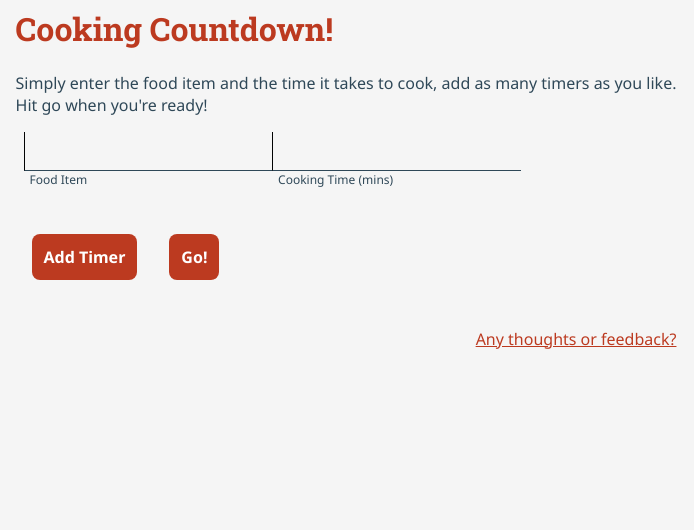
Test: <App /> › renders single instruction when only one set is populated
Type "Food A" into the field at [148, 151], box [24, 132, 272, 171]
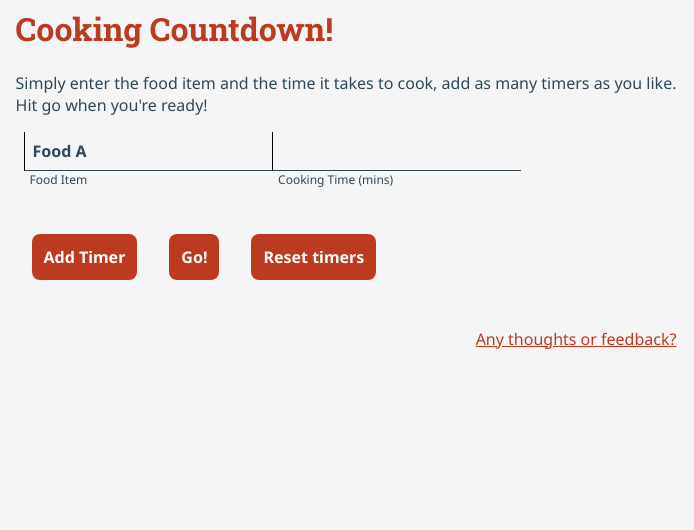
Type "10" into the number field at [396, 151], box [272, 132, 521, 171]
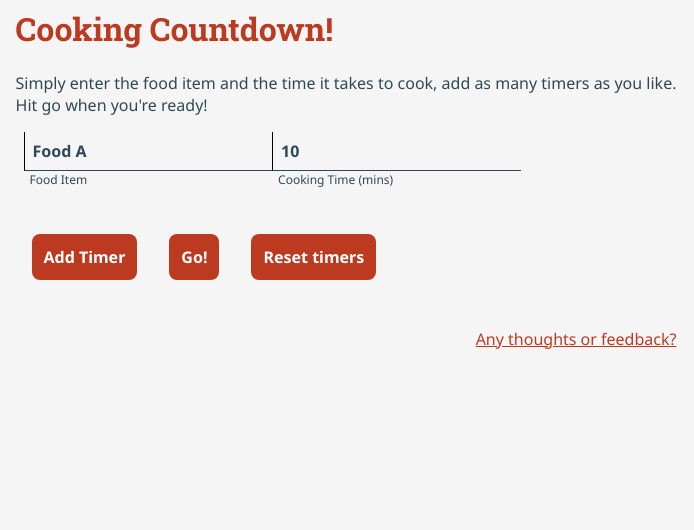
Click the button "Go!" at [194, 257], box [169, 234, 219, 280]
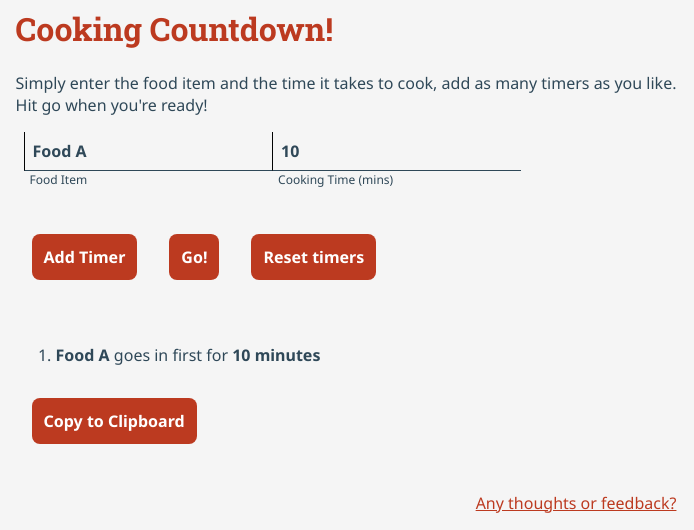
Expected: the number of list items is 1, [56, 344, 320, 366]
Expected: the list item reads "Food A goes in first for 10 minutes", [56, 344, 320, 366]
